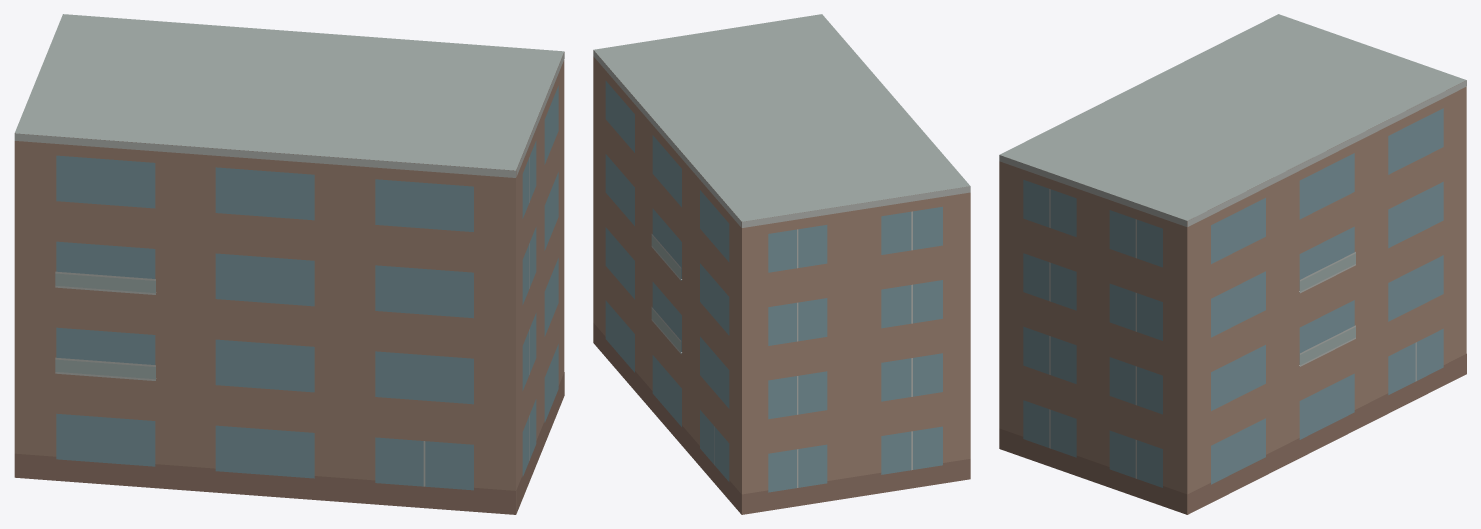
Rendered from survey-upis-32617246.glb.
The picture shows the model from 3 angles, left to right: view 1: azimuth 30°, elevation 25°; view 2: azimuth 150°, elevation 25°; view 3: azimuth 270°, elevation 25°; orthographic projection. The views are drawn at different scales.
Parts seen in each view (by area): view 1: survey-upis-32617246.tmp; view 2: survey-upis-32617246.tmp; view 3: survey-upis-32617246.tmp.
Boxes of the visible parts, left/top/right/bottom form: survey-upis-32617246.tmp: left=14, top=14, right=564, bottom=514; survey-upis-32617246.tmp: left=593, top=14, right=970, bottom=514; survey-upis-32617246.tmp: left=999, top=14, right=1466, bottom=514.
Size of the model in its own units: 16.99 by 11.25 by 16.22.
